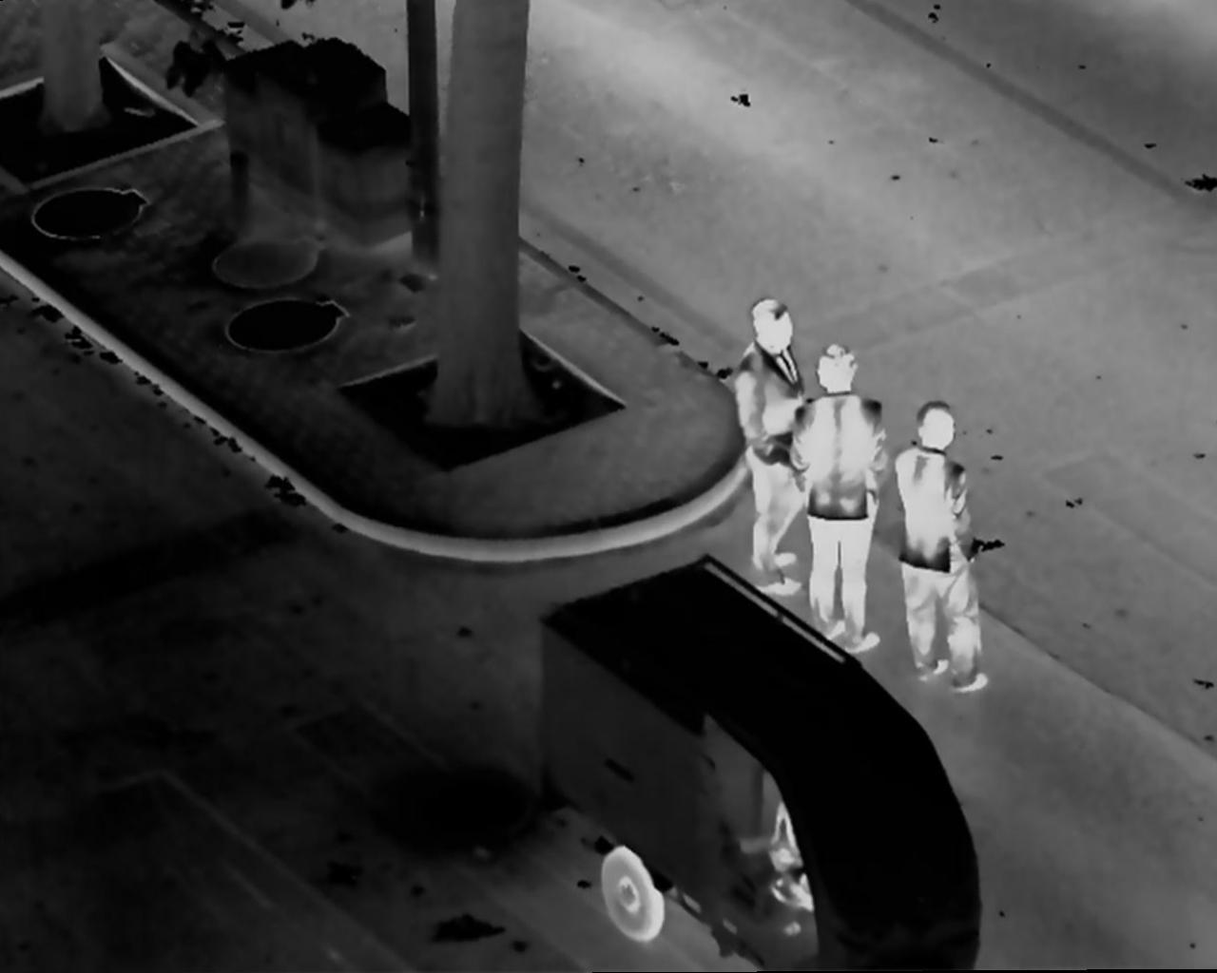person: (890, 393, 996, 692), (791, 343, 890, 656), (727, 290, 806, 597)
